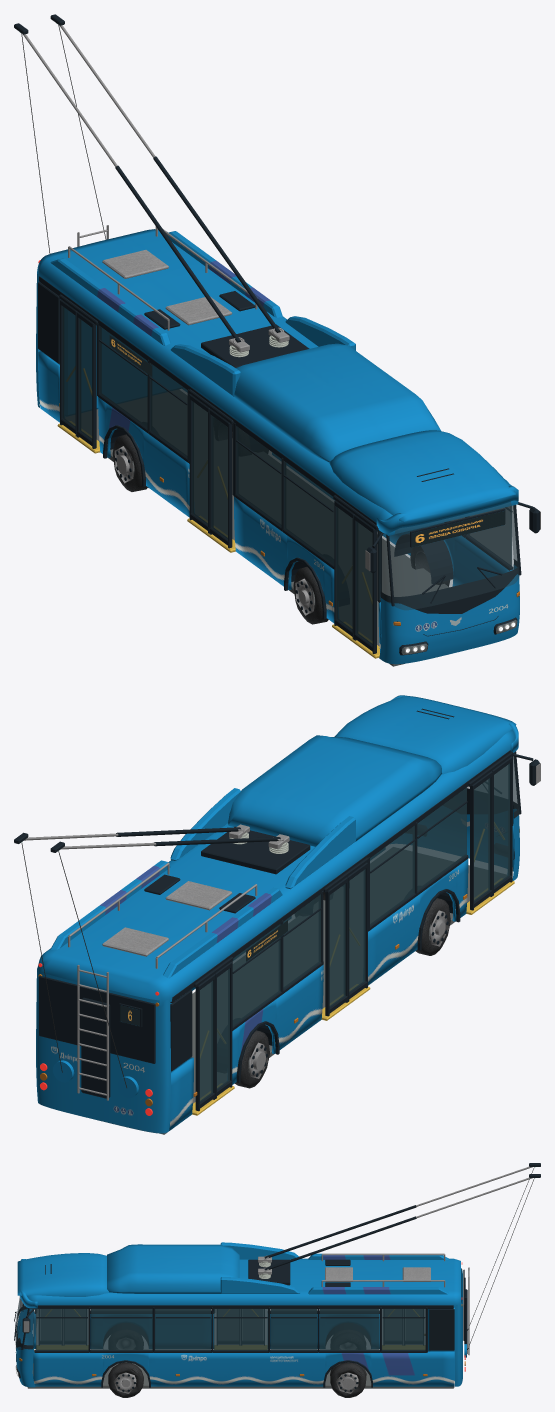
Rendered from bkm32100d-lod2.raw.glb.
3 views of the same model, one above another, from view 1: azimuth 30°, elevation 25°; view 2: azimuth 150°, elevation 25°; view 3: azimuth 270°, elevation 25° (orthographic). The views are drawn at different scales.
Parts seen in each view (by area): view 1: body-shell--review-blue-body--lod2, body-shell--review-black-frames--lod2, body-shell--review-floor--lod2, body-shell--review-side-glass--lod2, body-shell--review-windshield--lod2, body-shell--review-wheel-and-hardware--lod2, door-front-rearward-pivot--review-side-glass--lod2, door-middle-forward-pivot--review-side-glass--lod2, body-shell--vehicle-destination-display--lod2, door-middle-rearward-pivot--review-side-glass--lod2, door-front-forward-pivot--review-side-glass--lod2, door-rear-rearward-pivot--review-side-glass--lod2 (+12 smaller); view 2: body-shell--review-blue-body--lod2, body-shell--review-black-frames--lod2, body-shell--review-floor--lod2, body-shell--review-side-glass--lod2, body-shell--review-wheel-and-hardware--lod2, door-front-forward-pivot--review-side-glass--lod2, door-middle-forward-pivot--review-side-glass--lod2, door-front-rearward-pivot--review-side-glass--lod2, door-middle-rearward-pivot--review-side-glass--lod2, door-rear-rearward-pivot--review-side-glass--lod2, door-rear-forward-pivot--review-side-glass--lod2, door-middle-rearward-pivot--review-black-frames--lod2 (+11 smaller); view 3: body-shell--review-blue-body--lod2, body-shell--review-side-glass--lod2, body-shell--review-black-frames--lod2, body-shell--review-wheel-and-hardware--lod2, body-shell--review-floor--lod2, wheel-spin-rear-right--review-tire-rubber--lod2, body-shell--review-windshield--lod2, wheel-spin-front-right--review-tire-rubber--lod2, body-shell--review-door-threshold--lod2, door-middle-forward-pivot--review-side-glass--lod2, door-front-rearward-pivot--review-side-glass--lod2, door-front-forward-pivot--review-side-glass--lod2 (+11 smaller).
Boxes of the visible parts, <box> form: body-shell--review-blue-body--lod2: <box>36,229,519,664</box>; body-shell--review-black-frames--lod2: <box>38,276,521,655</box>; body-shell--review-floor--lod2: <box>66,390,448,666</box>; body-shell--review-side-glass--lod2: <box>99,326,511,598</box>; body-shell--review-windshield--lod2: <box>379,502,519,609</box>; body-shell--review-wheel-and-hardware--lod2: <box>68,225,515,653</box>; door-front-rearward-pivot--review-side-glass--lod2: <box>336,507,352,630</box>; door-middle-forward-pivot--review-side-glass--lod2: <box>211,415,227,539</box>; body-shell--vehicle-destination-display--lod2: <box>109,335,504,547</box>; door-middle-rearward-pivot--review-side-glass--lod2: <box>192,401,207,524</box>; door-front-forward-pivot--review-side-glass--lod2: <box>356,521,372,645</box>; door-rear-rearward-pivot--review-side-glass--lod2: <box>62,306,75,427</box>; body-shell--review-blue-body--lod2: <box>36,695,519,1133</box>; body-shell--review-black-frames--lod2: <box>39,708,521,1098</box>; body-shell--review-floor--lod2: <box>160,847,506,1134</box>; body-shell--review-side-glass--lod2: <box>232,787,466,1026</box>; body-shell--review-wheel-and-hardware--lod2: <box>68,824,289,1100</box>; door-front-forward-pivot--review-side-glass--lod2: <box>494,763,510,887</box>; door-middle-forward-pivot--review-side-glass--lod2: <box>349,869,365,992</box>; door-front-rearward-pivot--review-side-glass--lod2: <box>474,778,490,901</box>; door-middle-rearward-pivot--review-side-glass--lod2: <box>329,884,345,1007</box>; door-rear-rearward-pivot--review-side-glass--lod2: <box>200,981,213,1102</box>; door-rear-forward-pivot--review-side-glass--lod2: <box>217,968,229,1089</box>; door-middle-rearward-pivot--review-black-frames--lod2: <box>325,877,347,1016</box>; body-shell--review-blue-body--lod2: <box>16,1242,466,1387</box>; body-shell--review-side-glass--lod2: <box>35,1308,425,1350</box>; body-shell--review-black-frames--lod2: <box>15,1259,467,1387</box>; body-shell--review-wheel-and-hardware--lod2: <box>16,1253,469,1375</box>; body-shell--review-floor--lod2: <box>27,1349,454,1388</box>; wheel-spin-rear-right--review-tire-rubber--lod2: <box>330,1362,366,1397</box>; body-shell--review-windshield--lod2: <box>15,1296,39,1349</box>; wheel-spin-front-right--review-tire-rubber--lod2: <box>108,1362,143,1397</box>; body-shell--review-door-threshold--lod2: <box>37,1345,424,1349</box>; door-middle-forward-pivot--review-side-glass--lod2: <box>218,1309,238,1339</box>; door-front-rearward-pivot--review-side-glass--lod2: <box>65,1309,85,1339</box>; door-front-forward-pivot--review-side-glass--lod2: <box>41,1309,60,1339</box>.
Size of the model in its own units: 3.28 by 6.25 by 14.23.
Materials: 16 (5 with a texture image).
